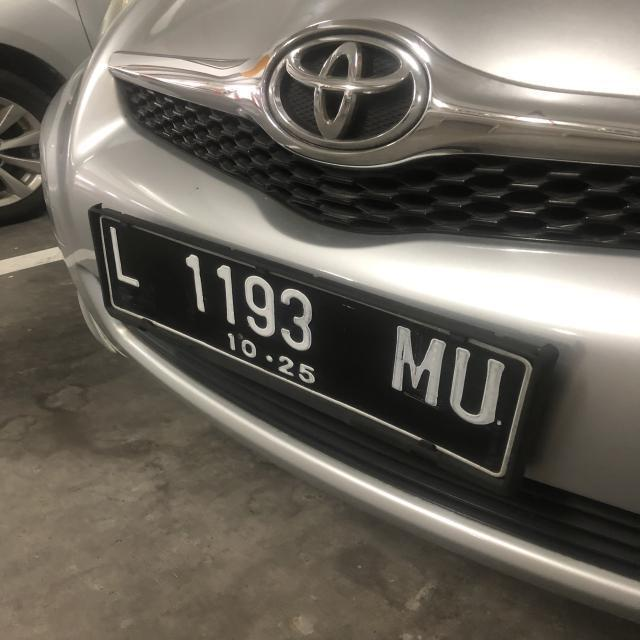1: (212, 257, 242, 331), (179, 249, 212, 311)
3: (278, 288, 316, 352)
9: (246, 276, 280, 336)
L: (108, 220, 144, 286)
M: (388, 324, 448, 407)
U: (445, 343, 514, 426)
